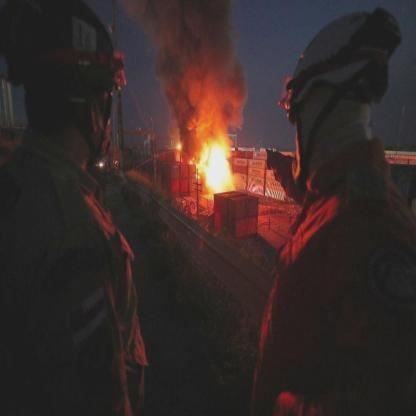Fire: (174, 98, 239, 212)
Smoke: (121, 0, 258, 138)
